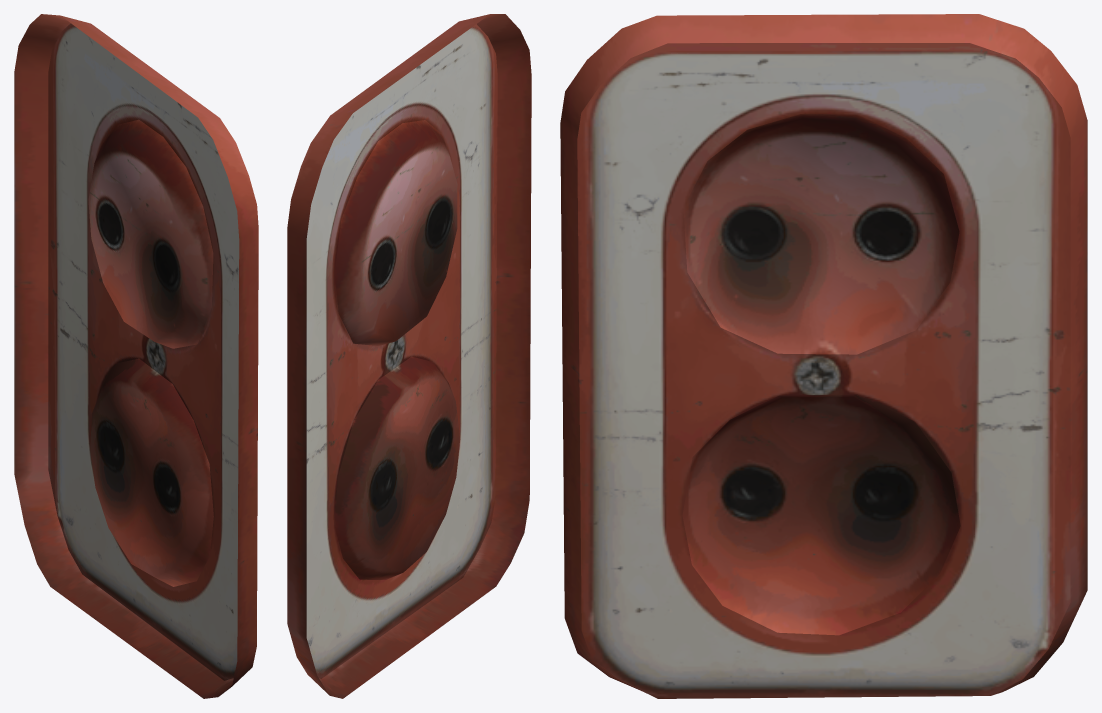
File: Electrical_Socket_06.fbx
The picture shows the model from 3 angles, left to right: view 1: azimuth 30°, elevation 25°; view 2: azimuth 150°, elevation 25°; view 3: azimuth 270°, elevation 25°; orthographic projection. The views are drawn at different scales.
Parts seen in each view (by area): view 1: Electrical_Socket_06; view 2: Electrical_Socket_06; view 3: Electrical_Socket_06.
Part boxes in pixels (x1=…): Electrical_Socket_06: x1=14, y1=14, x2=258, y2=698; Electrical_Socket_06: x1=287, y1=14, x2=531, y2=698; Electrical_Socket_06: x1=560, y1=14, x2=1087, y2=698.
Size of the model in its own units: 0.8691 by 12.66 by 17.96.
1 material, 1 textured.
